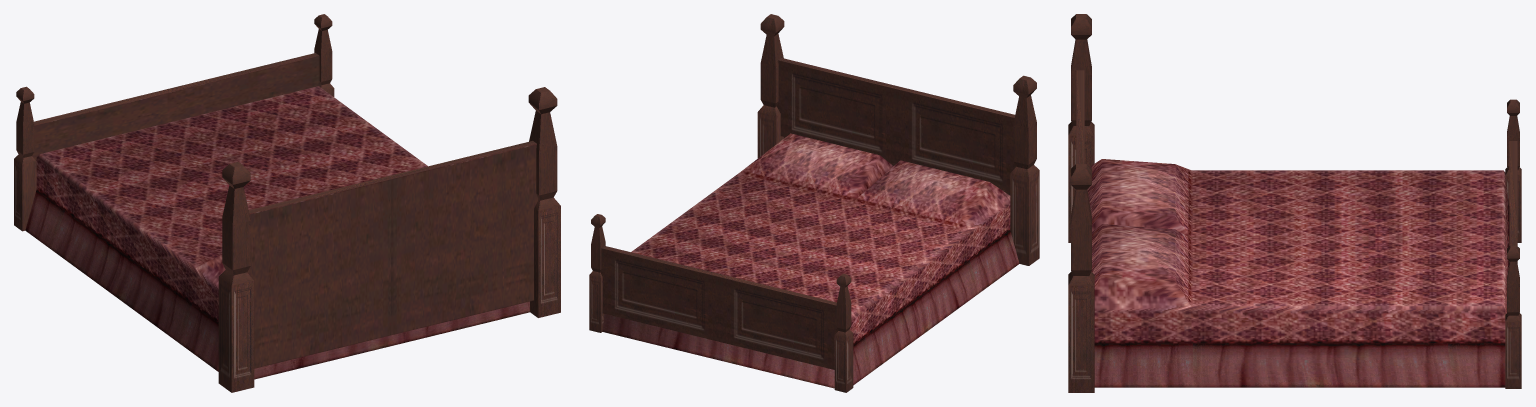
The model's file is bed01.fbx.
The picture shows the model from 3 angles, left to right: view 1: azimuth 30°, elevation 25°; view 2: azimuth 150°, elevation 25°; view 3: azimuth 270°, elevation 25°; orthographic projection. The views are drawn at different scales.
Parts seen in each view (by area): view 1: mesh_0, mesh_1; view 2: mesh_1, mesh_0; view 3: mesh_1, mesh_0.
Boxes of the visible parts, x1=… form: mesh_0: x1=14, y1=14, x2=560, y2=392; mesh_1: x1=25, y1=86, x2=529, y2=378; mesh_1: x1=602, y1=133, x2=1019, y2=388; mesh_0: x1=589, y1=14, x2=1039, y2=392; mesh_1: x1=1087, y1=159, x2=1509, y2=387; mesh_0: x1=1068, y1=14, x2=1521, y2=392.
Size of the model in its own units: 232 by 149 by 276.
Materials: 1 (1 with a texture image).
